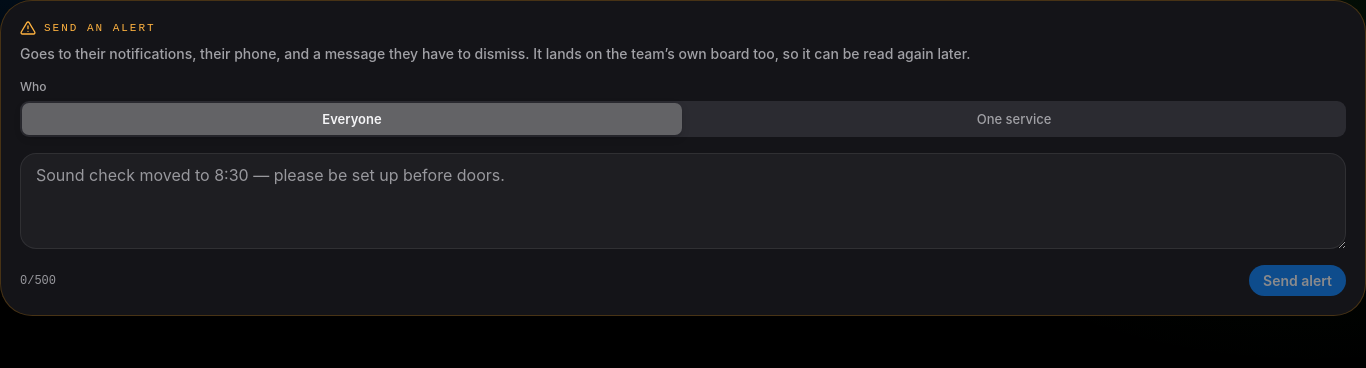
Test: TeamAlertPanel › says so when the alert reached nobody, rather than claiming success
Expected: the text "Send an alert" is shown, [44,22,156,34]
Type "anyone there?" into the text box at coordinates (683, 201), box [20,153,1346,249]
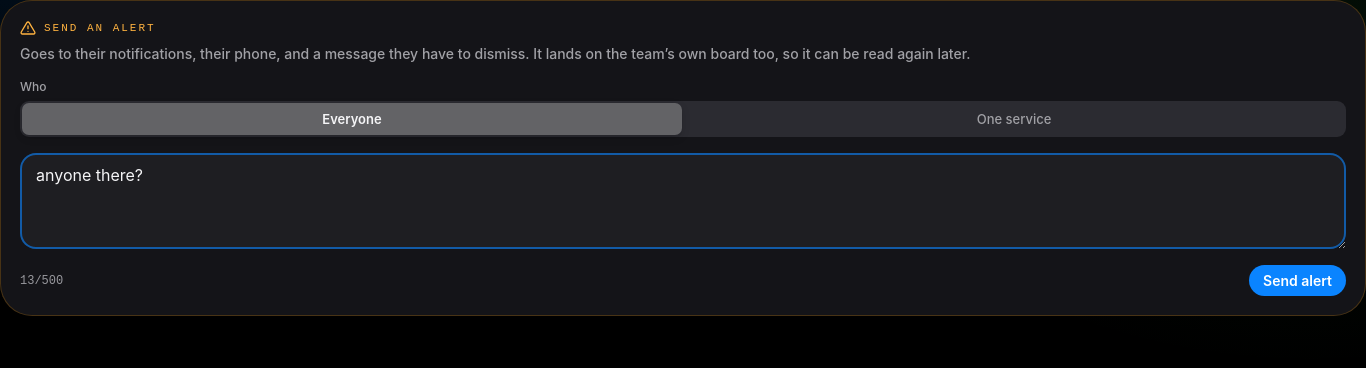
Click the button "Send alert" at coordinates (1298, 280), box [1249,265,1346,296]
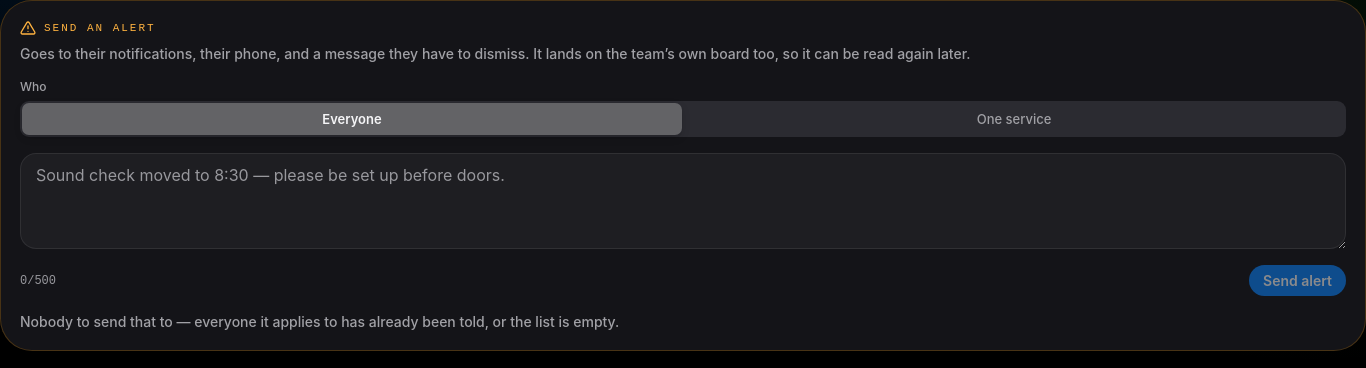
Now the text "Nobody to send that to" is shown, box [20,313,619,330]
